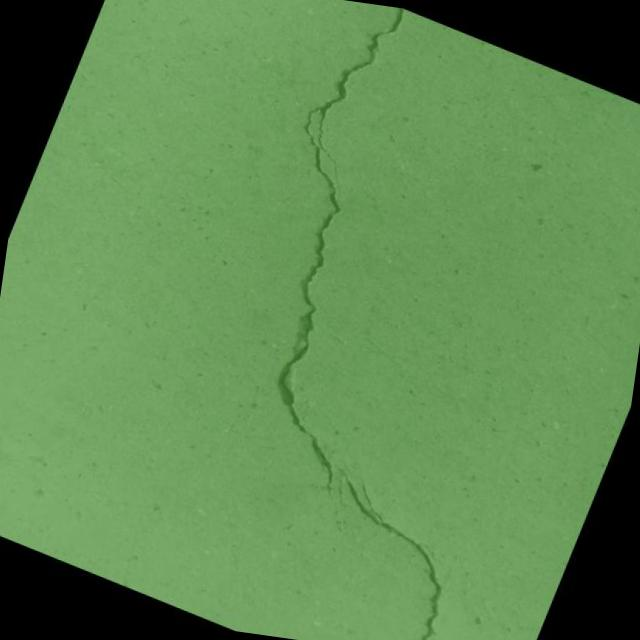crack: (172, 0, 514, 511), (266, 451, 499, 640), (354, 544, 371, 572)
